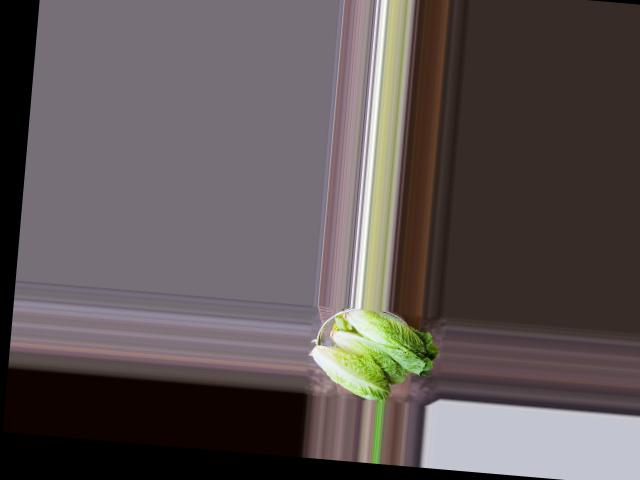lettuce: (331, 306, 438, 377)
